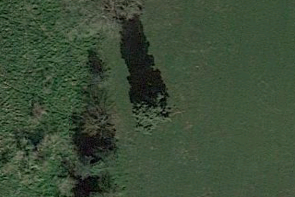tree: (124, 86, 177, 138)
